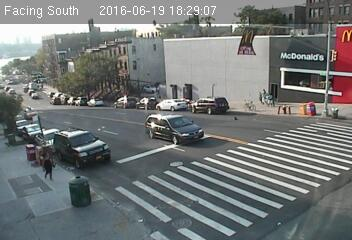neg: (182, 118, 196, 136), (113, 86, 126, 103), (286, 105, 299, 121), (263, 110, 273, 123)
pos: (36, 152, 58, 182), (257, 86, 270, 103)
